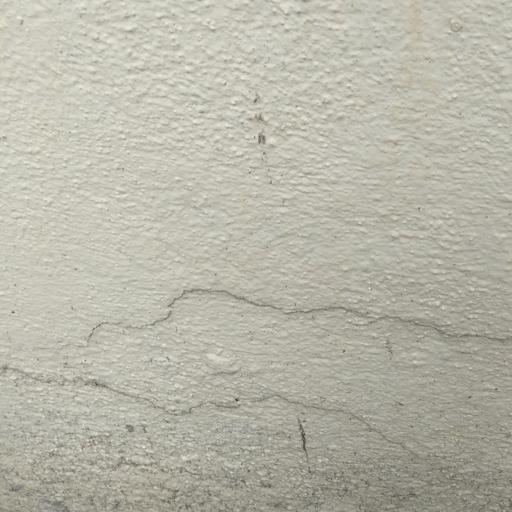minor_crack: (4, 278, 512, 451)
